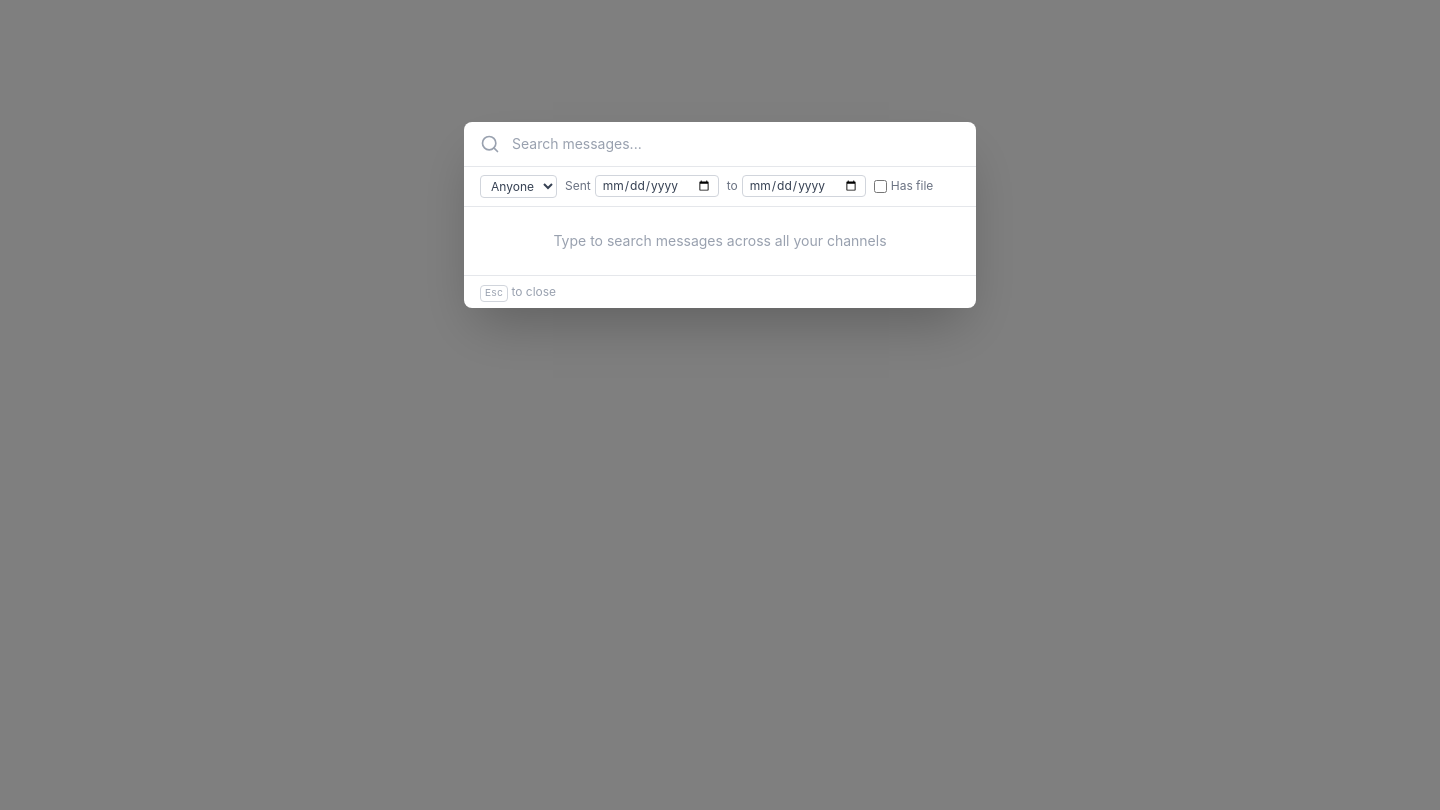
Scenario: SearchDialog › loads the next page from the cursor
Type "report" into the field with placeholder "Search messages..." at (736, 144), box [512,134,960,154]
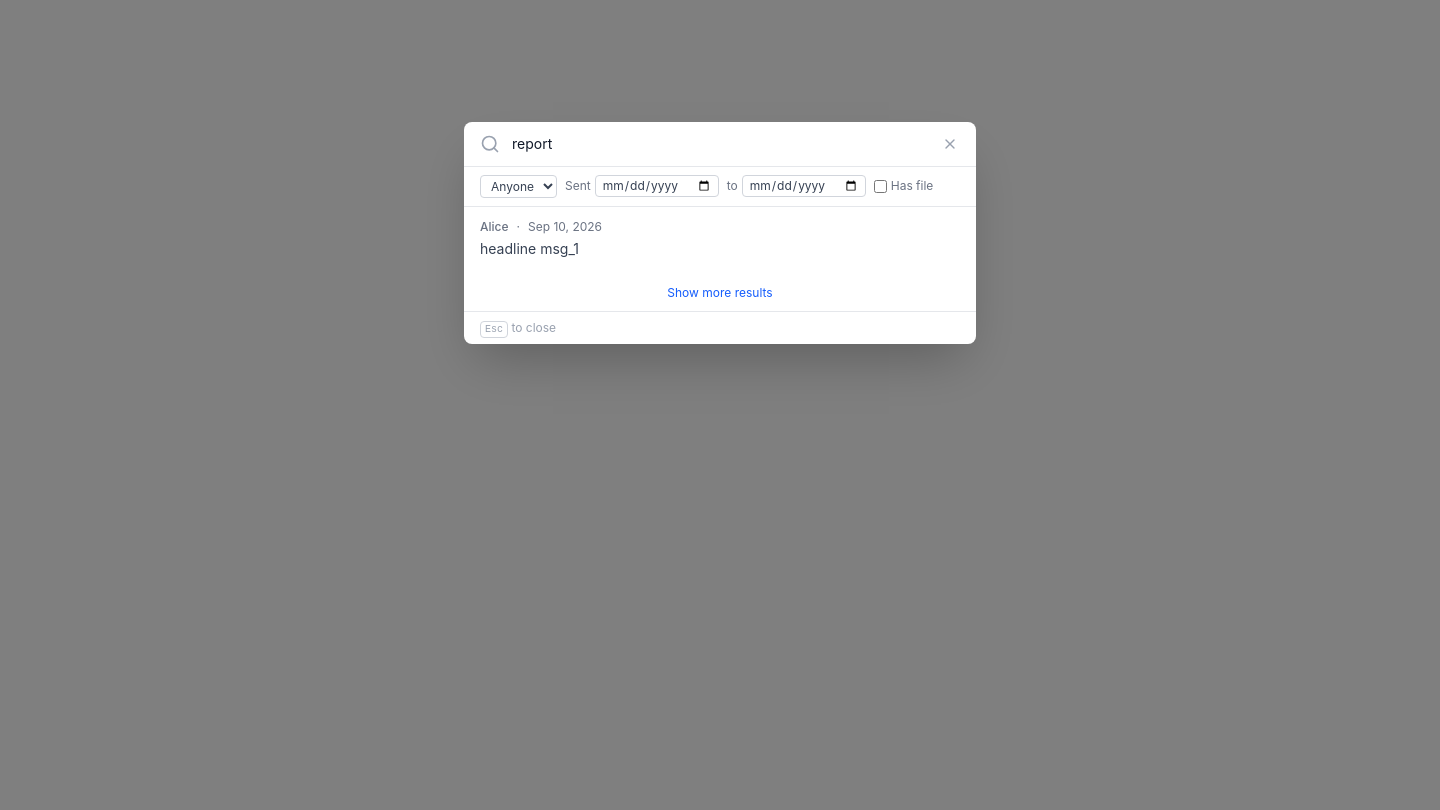
Click the button "Show more results" at (720, 292), box [667,284,773,300]
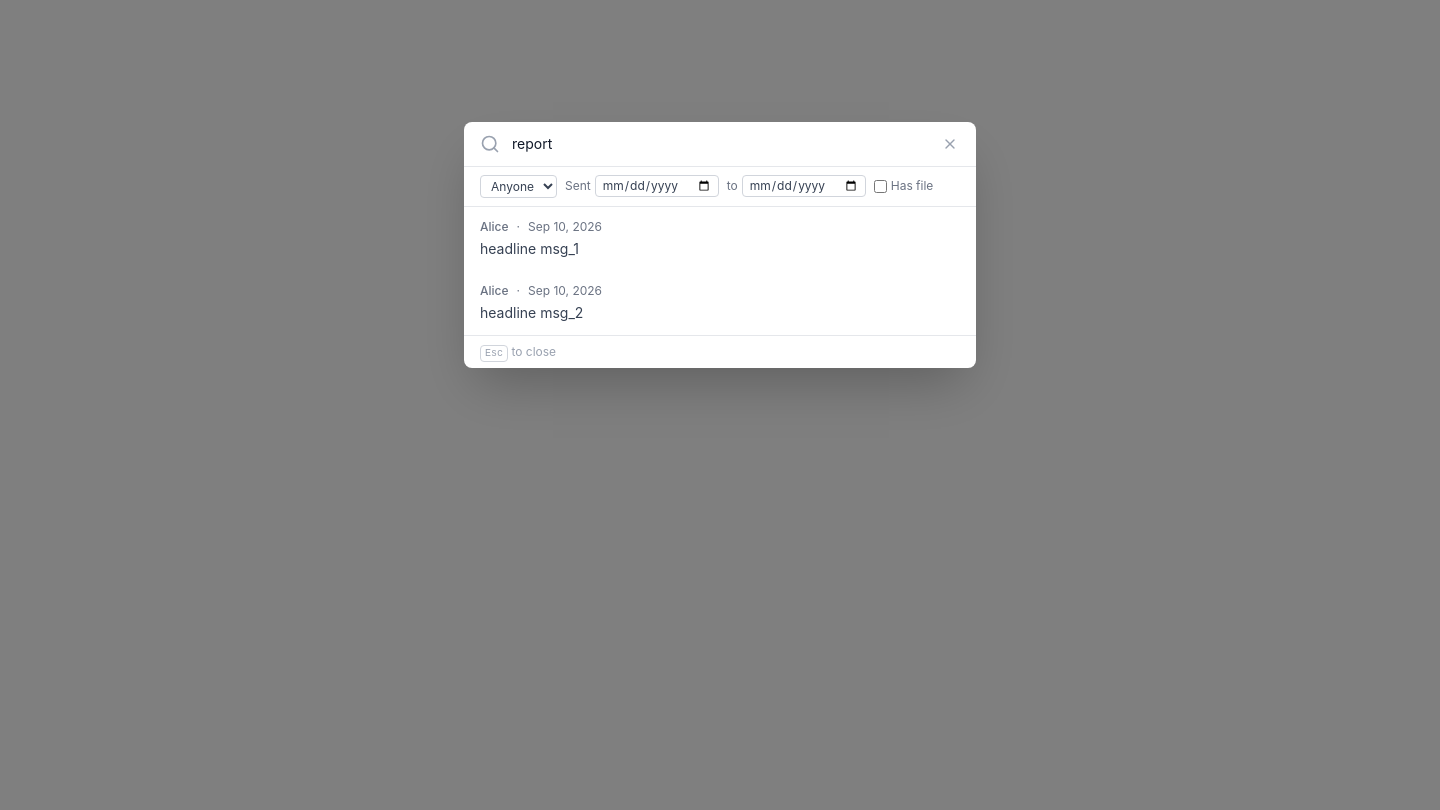
expect the text "headline msg_1" is shown: met, box [480,240,579,256]
expect the text "headline msg_2" is shown: met, box [480,304,583,320]
expect the button "Show more results" is gone: met
